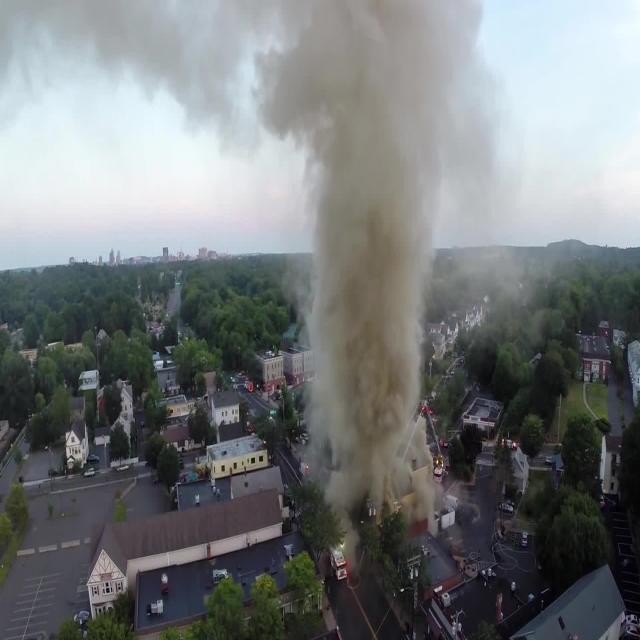Smoke: (196, 0, 478, 524)
